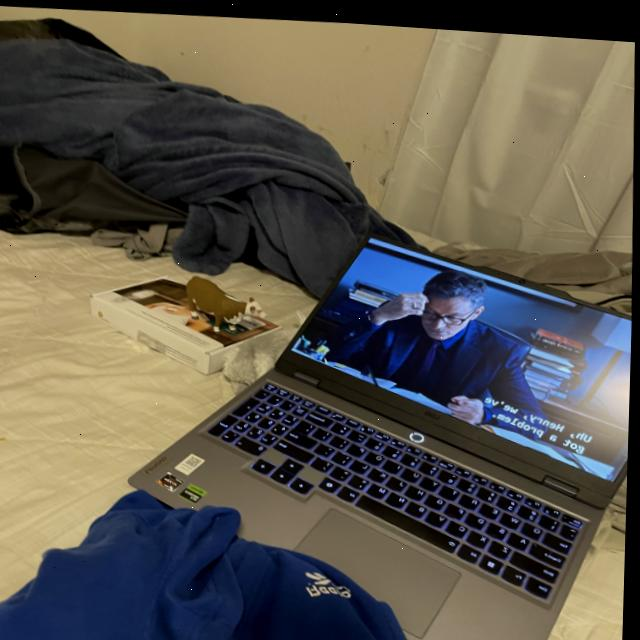cow: (177, 268, 274, 342)
